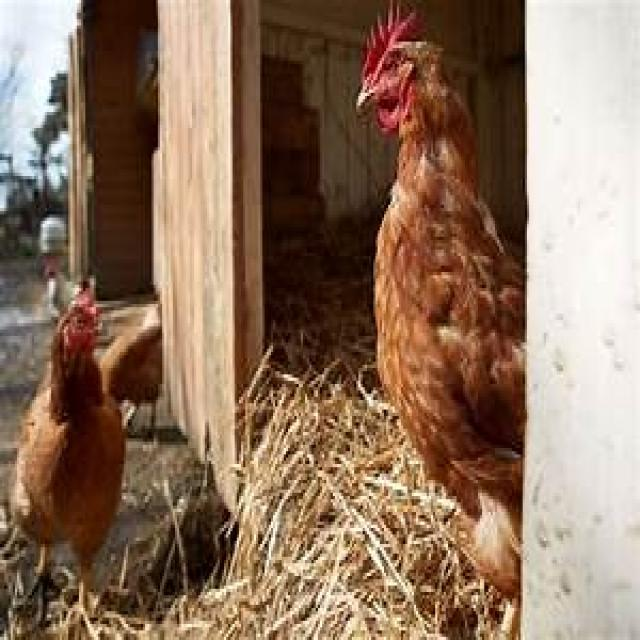hen: (359, 17, 522, 608), (11, 294, 125, 605)
